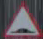Speed Breaker ahead: (0, 3, 38, 38)
